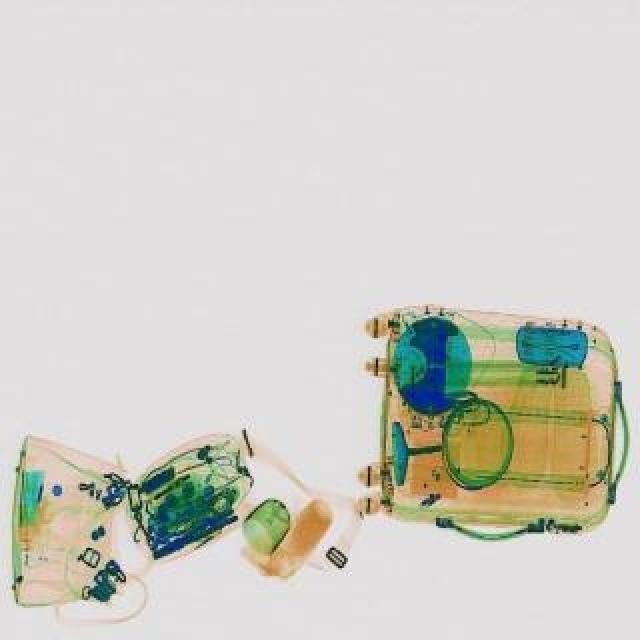wrench: (150, 506, 244, 562)
